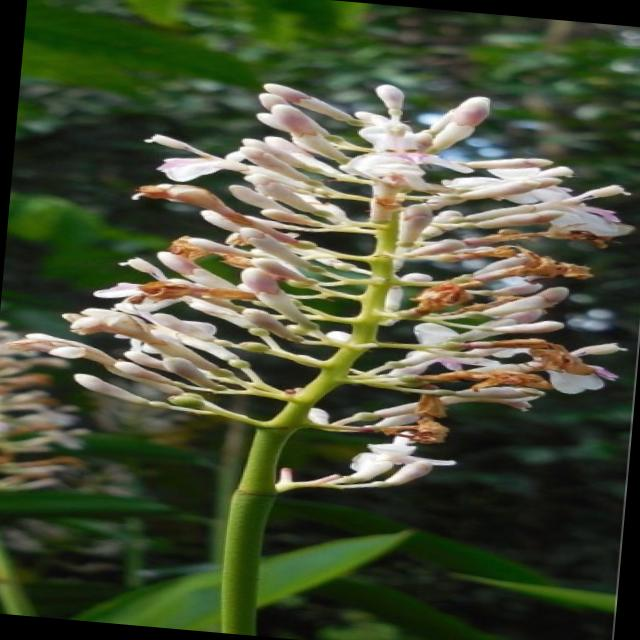Aquatic-Ginger: (0, 52, 640, 513)
